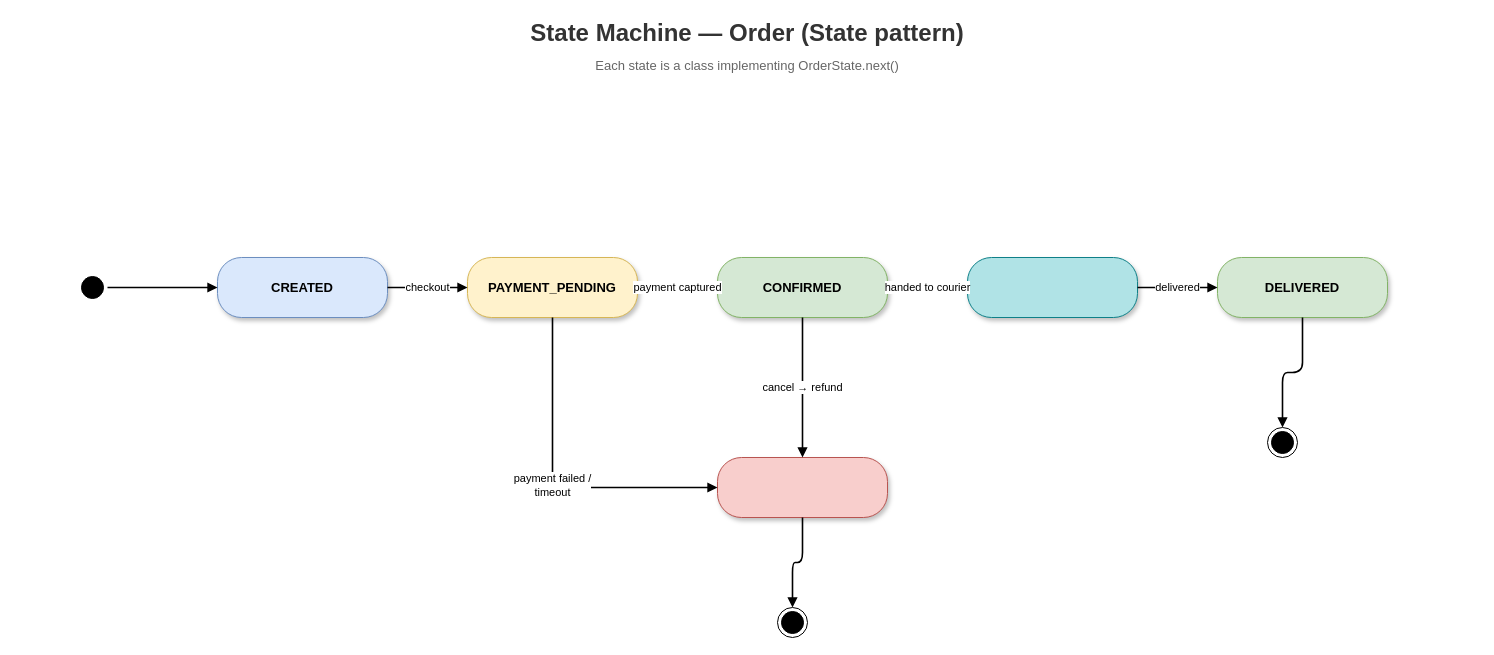
Some shapes in this 1494 by 655 pixel diagram are drawn without their labels. Here are the shapes that lost their labels. From the top down, the centre of each, then its label:
At pixel 1053 288: "SHIPPED".
At pixel 803 488: "CANCELLED".
